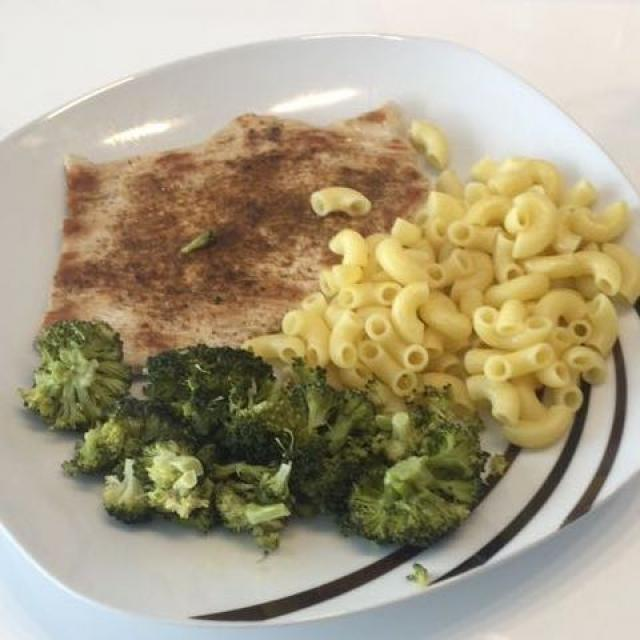broccoli: (22, 294, 508, 560)
pasta: (273, 152, 634, 451)
